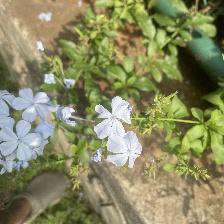chitrak: (1, 121, 46, 164), (94, 94, 134, 137), (103, 132, 146, 170), (12, 87, 55, 121)
